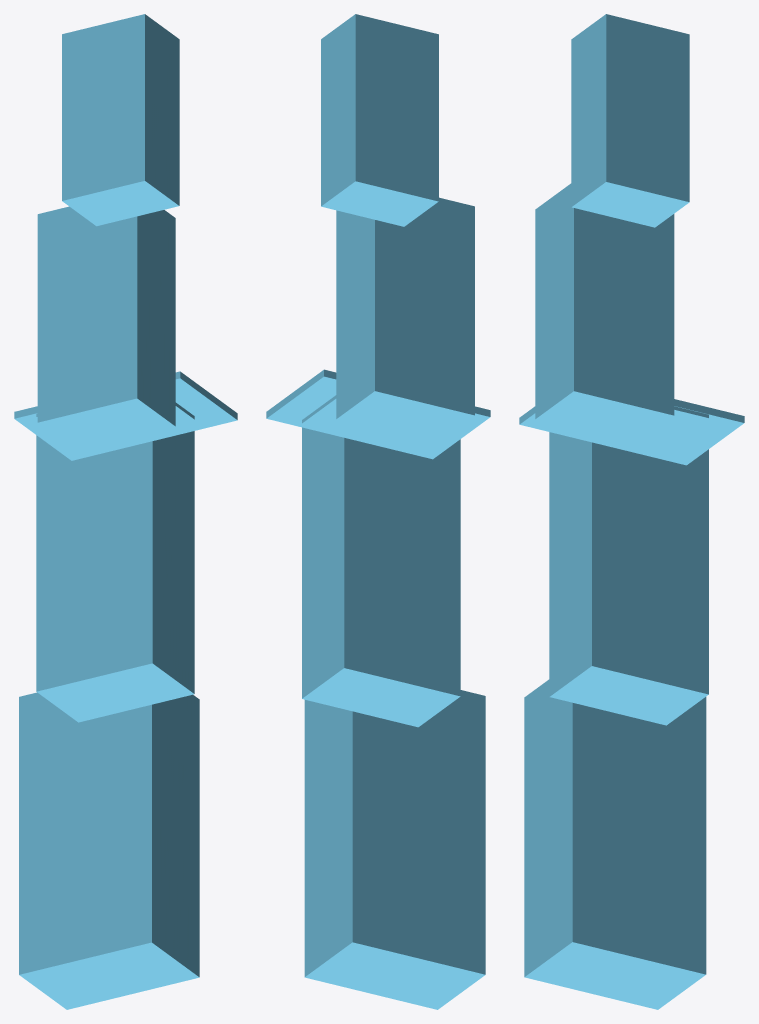
Rendered from mercedes-benz.glb.
3 views of the same model, side by side, from view 1: azimuth 30°, elevation 25°; view 2: azimuth 150°, elevation 25°; view 3: azimuth 330°, elevation 25° (orthographic).
Bounding box in the file's own units: 50 × 269 × 30.
